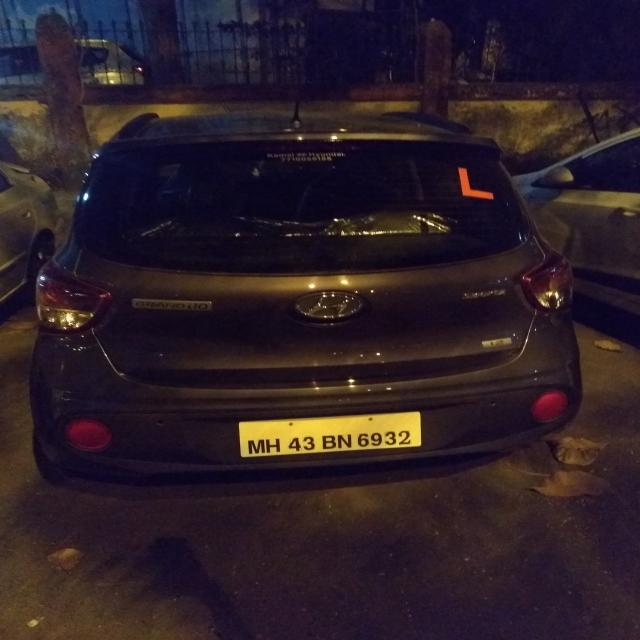Number-Plate: (241, 418, 422, 453)
